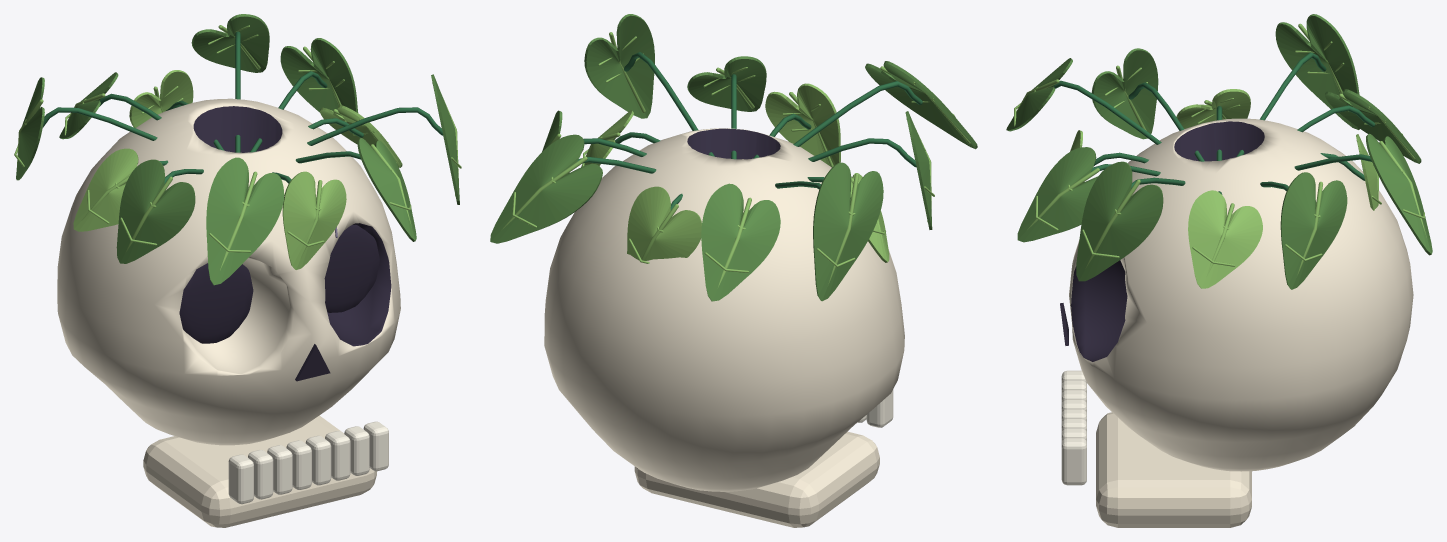
Rendered from shelf_flowered_skull.glb.
3 renders of one model, left to right at view 1: azimuth 30°, elevation 25°; view 2: azimuth 150°, elevation 25°; view 3: azimuth 270°, elevation 25°, orthographic. The views are drawn at different scales.
Visible parts, largest first — view 1: Hollow_cranium, Flat_stable_jaw, Broad_shaped_leaf.011, Broad_shaped_leaf.010, Socket_dark_depth, Broad_shaped_leaf, Socket_dark_depth.001, Broad_shaped_leaf.004, Broad_shaped_leaf.005, Broad_shaped_leaf.009, Broad_shaped_leaf.001, Broad_shaped_leaf.006 (+15 smaller); view 2: Hollow_cranium, Flat_stable_jaw, Broad_shaped_leaf.005, Broad_shaped_leaf.008, Broad_shaped_leaf.007, Broad_shaped_leaf.002, Broad_shaped_leaf.006, Broad_shaped_leaf, Broad_shaped_leaf.001, Broad_shaped_leaf.011, Broad_shaped_leaf.010, Crown_leaf_petiole.011 (+5 smaller); view 3: Hollow_cranium, Flat_stable_jaw, Broad_shaped_leaf.002, Broad_shaped_leaf.004, Broad_shaped_leaf.003, Broad_shaped_leaf.008, Broad_shaped_leaf.001, Broad_shaped_leaf.010, Broad_shaped_leaf.005, Broad_shaped_leaf.007, Broad_shaped_leaf.009, Broad_shaped_leaf.011 (+6 smaller).
Part boxes in pixels (bbox=[...]): Hollow_cranium: bbox=[57, 98, 400, 445]; Flat_stable_jaw: bbox=[143, 415, 376, 527]; Broad_shaped_leaf.011: bbox=[206, 157, 284, 285]; Broad_shaped_leaf.010: bbox=[116, 159, 195, 263]; Socket_dark_depth: bbox=[179, 263, 253, 343]; Broad_shaped_leaf: bbox=[282, 171, 346, 269]; Socket_dark_depth.001: bbox=[324, 224, 379, 312]; Broad_shaped_leaf.004: bbox=[280, 38, 358, 112]; Broad_shaped_leaf.005: bbox=[191, 14, 269, 72]; Broad_shaped_leaf.009: bbox=[73, 148, 138, 231]; Broad_shaped_leaf.001: bbox=[357, 138, 416, 241]; Broad_shaped_leaf.006: bbox=[129, 70, 193, 127]; Hollow_cranium: bbox=[544, 128, 904, 491]; Flat_stable_jaw: bbox=[634, 431, 879, 527]; Broad_shaped_leaf.005: bbox=[490, 134, 602, 243]; Broad_shaped_leaf.008: bbox=[813, 162, 883, 301]; Broad_shaped_leaf.007: bbox=[701, 183, 780, 301]; Broad_shaped_leaf.002: bbox=[584, 14, 654, 118]; Broad_shaped_leaf.006: bbox=[627, 186, 701, 260]; Broad_shaped_leaf: bbox=[765, 83, 840, 165]; Broad_shaped_leaf.001: bbox=[687, 56, 766, 111]; Broad_shaped_leaf.011: bbox=[865, 61, 977, 149]; Broad_shaped_leaf.010: bbox=[905, 111, 932, 229]; Crown_leaf_petiole.011: bbox=[793, 81, 922, 146]; Hollow_cranium: bbox=[1069, 118, 1413, 471]; Flat_stable_jaw: bbox=[1096, 412, 1251, 527]; Broad_shaped_leaf.002: bbox=[1076, 161, 1163, 281]; Broad_shaped_leaf.004: bbox=[1280, 172, 1347, 289]; Broad_shaped_leaf.003: bbox=[1188, 190, 1262, 288]; Broad_shaped_leaf.008: bbox=[1275, 14, 1359, 129]; Broad_shaped_leaf.001: bbox=[1017, 147, 1098, 242]; Broad_shaped_leaf.010: bbox=[1091, 48, 1158, 139]; Broad_shaped_leaf.005: bbox=[1366, 133, 1432, 255]; Broad_shaped_leaf.007: bbox=[1325, 89, 1421, 163]; Broad_shaped_leaf.009: bbox=[1176, 89, 1250, 128]; Broad_shaped_leaf.011: bbox=[1006, 58, 1072, 131].
Bounding box in the file's own units: 0.2222 × 0.2459 × 0.2351.
